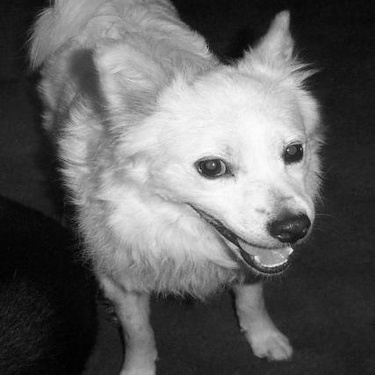dog: (23, 1, 326, 372), (1, 201, 97, 369)
